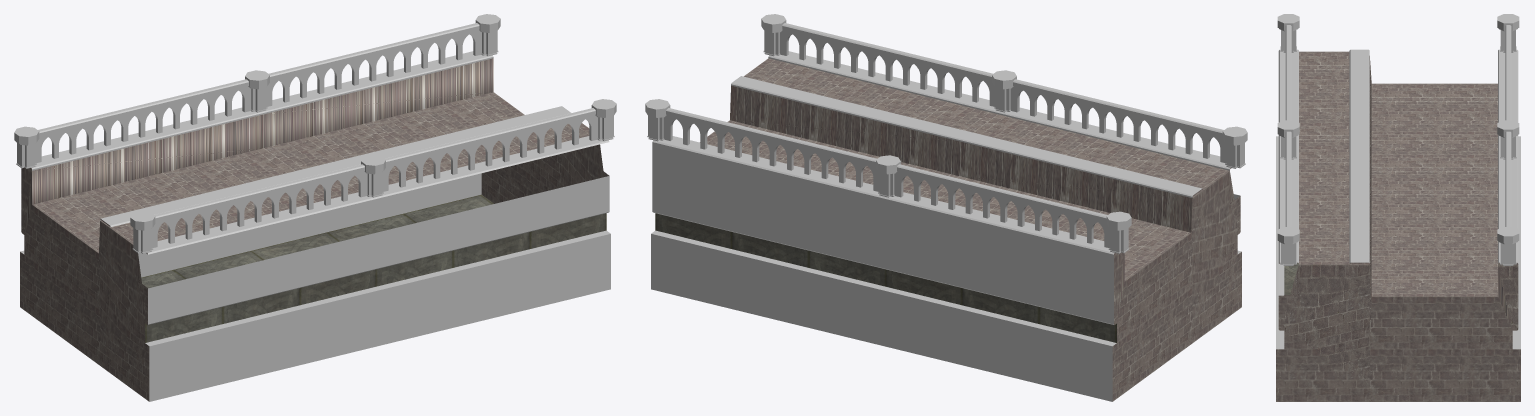
The model's file is bridge_deck_03+.fbx.
3 renders of one model, left to right at view 1: azimuth 30°, elevation 25°; view 2: azimuth 150°, elevation 25°; view 3: azimuth 270°, elevation 25°, orthographic. The views are drawn at different scales.
Parts seen in each view (by area): view 1: bridge_deck_03; view 2: bridge_deck_03; view 3: bridge_deck_03.
Boxes of the visible parts, x1,y1,x2,y2 form: bridge_deck_03: (14, 14, 616, 401); bridge_deck_03: (645, 14, 1247, 401); bridge_deck_03: (1276, 14, 1520, 401).
Bounding box in the file's own units: 657 × 235 × 306.
